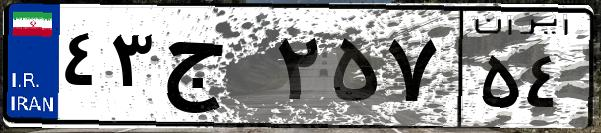2: (270, 28, 330, 110)
3: (110, 28, 158, 98)
4: (57, 26, 110, 100), (525, 38, 570, 115)
5: (330, 28, 385, 110), (475, 38, 525, 113)
7: (385, 28, 445, 110)
ج: (158, 20, 270, 120)
